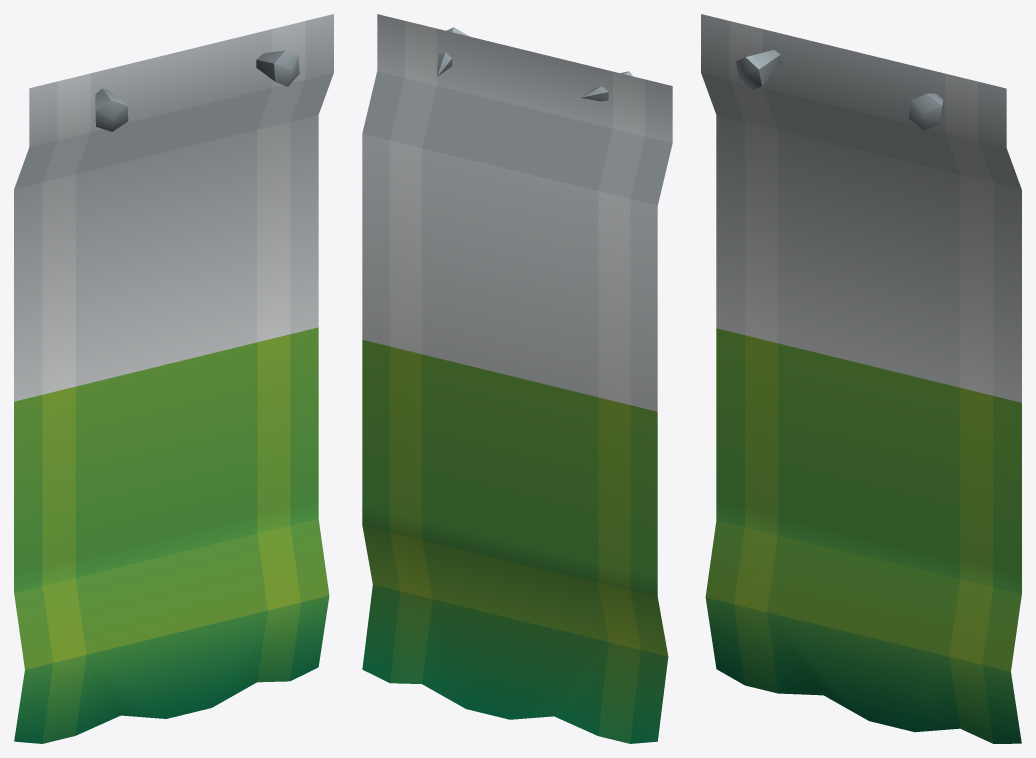
Rendered from banner_patternB_green.glb.
3 views of the same model, side by side, from view 1: azimuth 30°, elevation 25°; view 2: azimuth 150°, elevation 25°; view 3: azimuth 330°, elevation 25° (orthographic). The views are drawn at different scales.
Parts seen in each view (by area): view 1: banner_patternB_green; view 2: banner_patternB_green; view 3: banner_patternB_green.
Boxes of the visible parts, x1,y1,x2,y2 form: banner_patternB_green: (14,14,333,743); banner_patternB_green: (362,14,672,743); banner_patternB_green: (701,14,1021,743).
Size of the model in its own units: 1.5 by 3.2 by 0.3117.
1 material, 1 textured.
